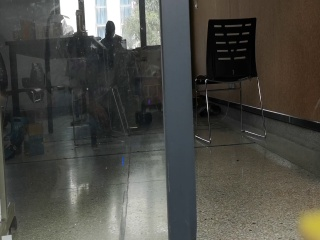room: (4, 3, 307, 236)
